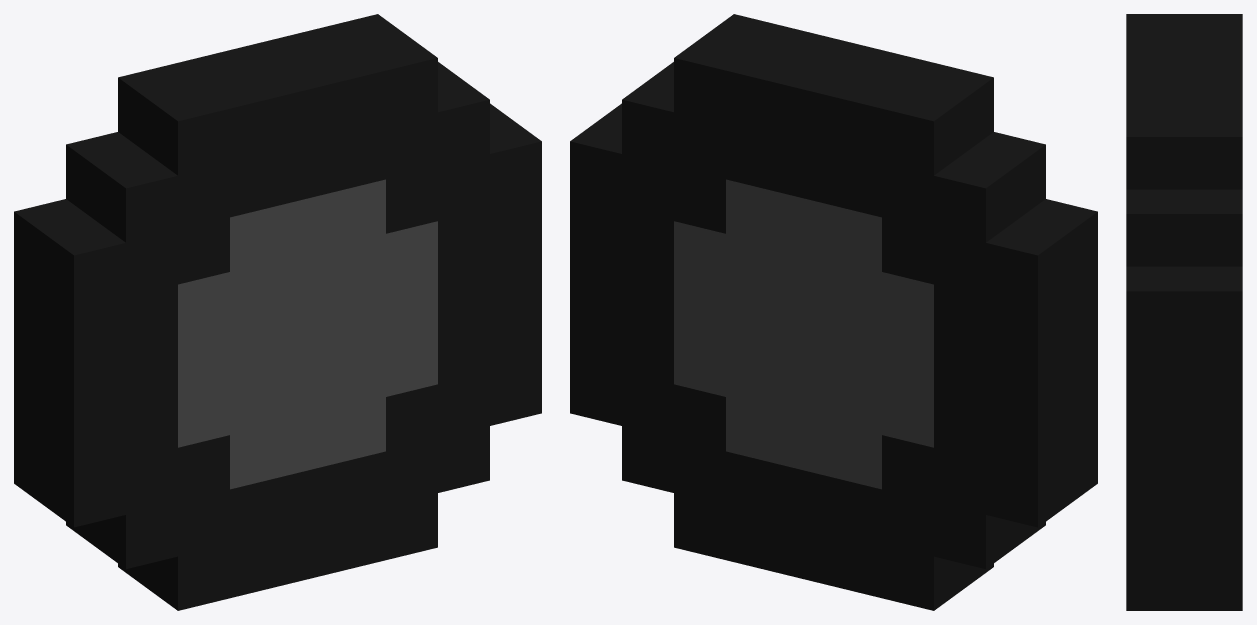
The model's file is колёса.obj.
The picture shows the model from 3 angles, left to right: view 1: azimuth 30°, elevation 25°; view 2: azimuth 150°, elevation 25°; view 3: azimuth 270°, elevation 25°; orthographic projection. The views are drawn at different scales.
Size of the model in its own units: 0.9 by 0.9 by 0.2.
1 material, 1 textured.
